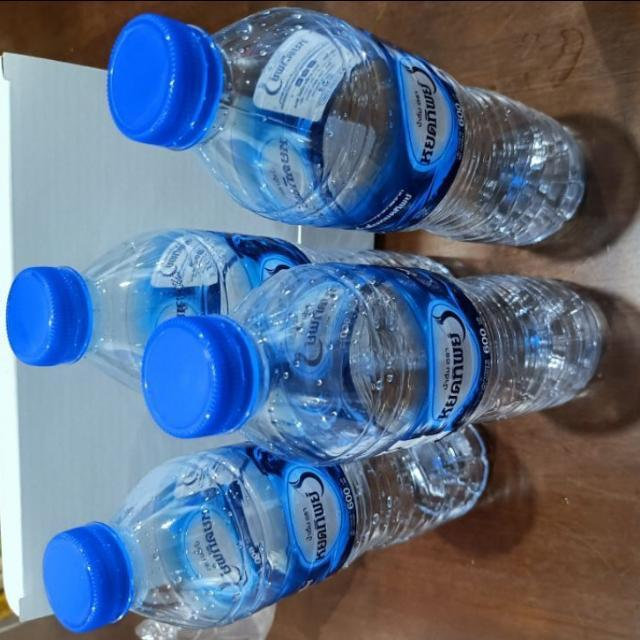PET Bottle: (101, 29, 637, 258), (15, 428, 545, 622), (140, 262, 631, 456)
